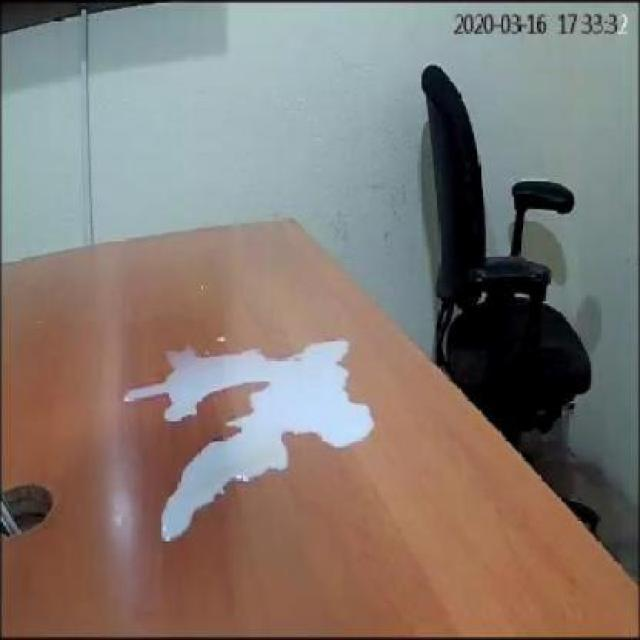spillage: (125, 339, 374, 542)
